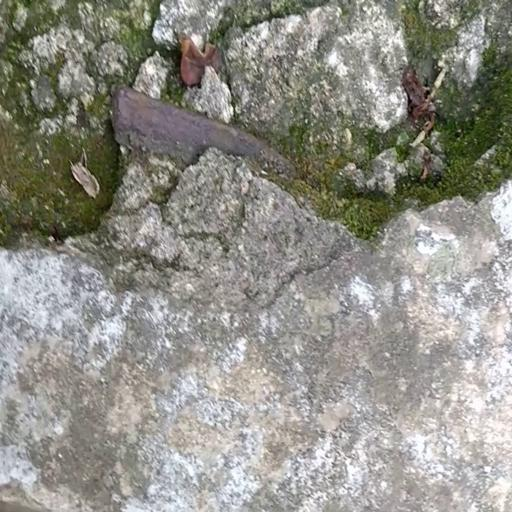spalling: (0, 0, 512, 283)
